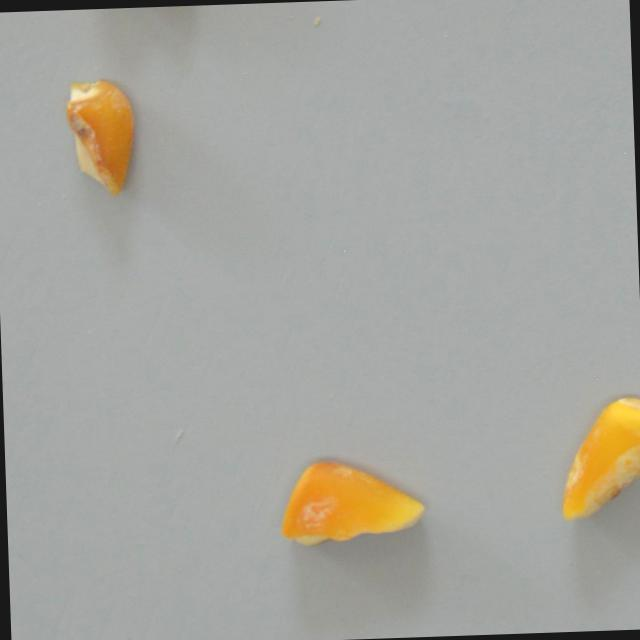dañado: (553, 391, 640, 526), (62, 77, 137, 195)
pelicula: (276, 456, 425, 549)
